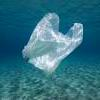Trash: (13, 13, 89, 81)
